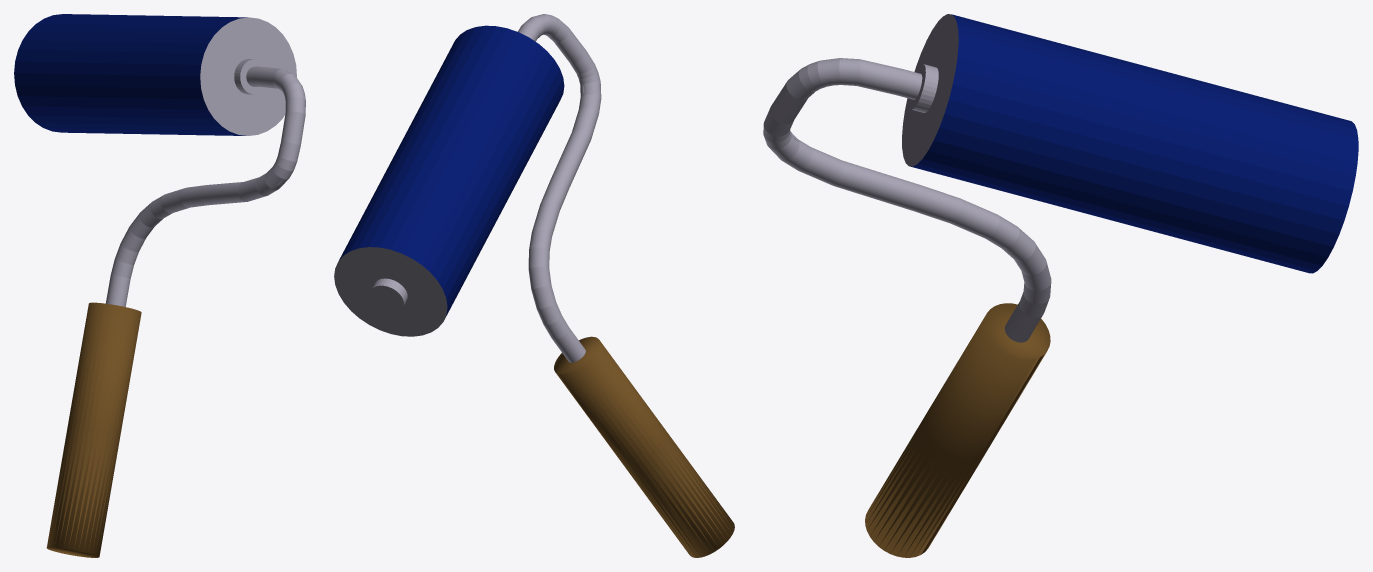
The model's file is PaintBrush.fbx.
3 views of the same model, side by side, from view 1: azimuth 30°, elevation 25°; view 2: azimuth 150°, elevation 25°; view 3: azimuth 270°, elevation 25° (orthographic). The views are drawn at different scales.
Parts seen in each view (by area): view 1: Pinceau.001; view 2: Pinceau.001; view 3: Pinceau.001.
Part boxes in pixels (x1,y1,x2,y2): Pinceau.001: (14,14,305,557); Pinceau.001: (334,14,734,557); Pinceau.001: (763,14,1358,557).
Bounding box in the file's own units: 56.57 × 101 × 84.34.
